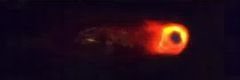keyhole: (168, 29, 185, 46)
